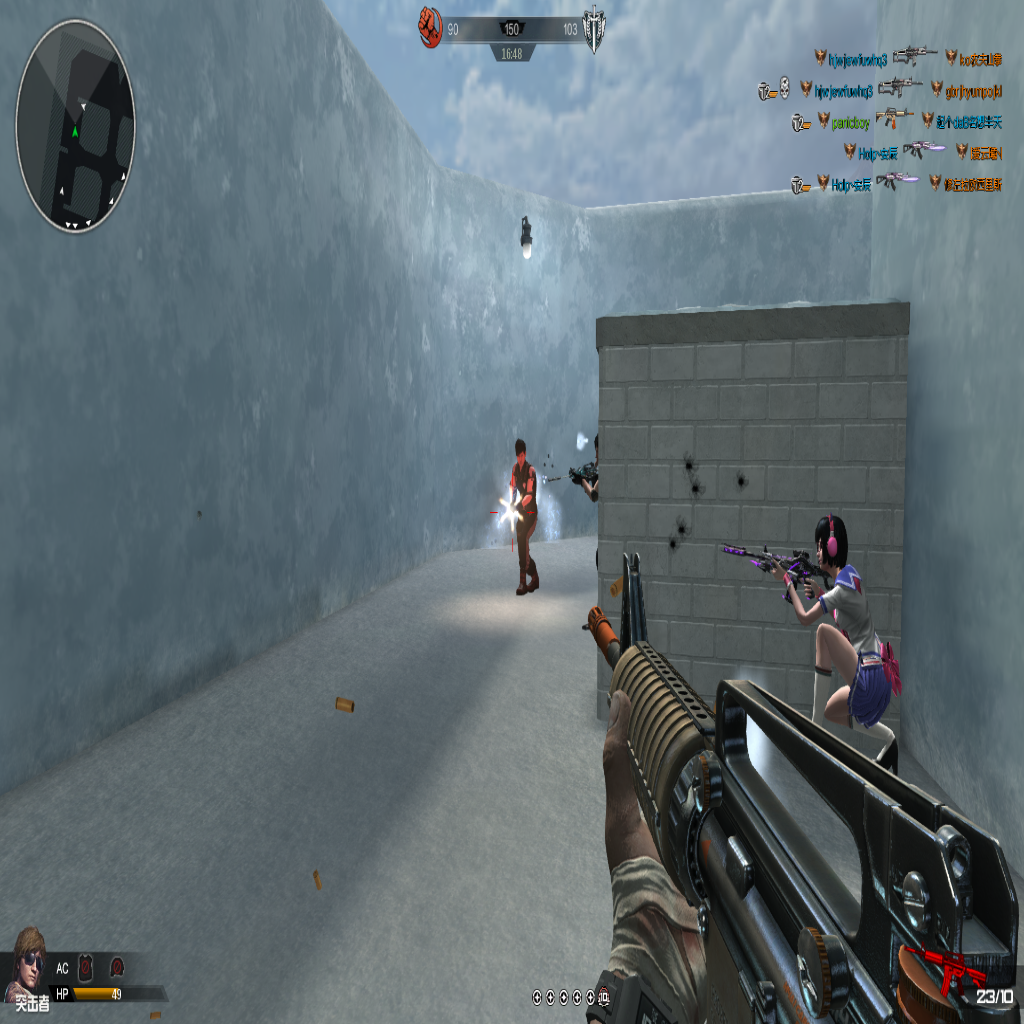ct: (509, 436, 539, 596)
